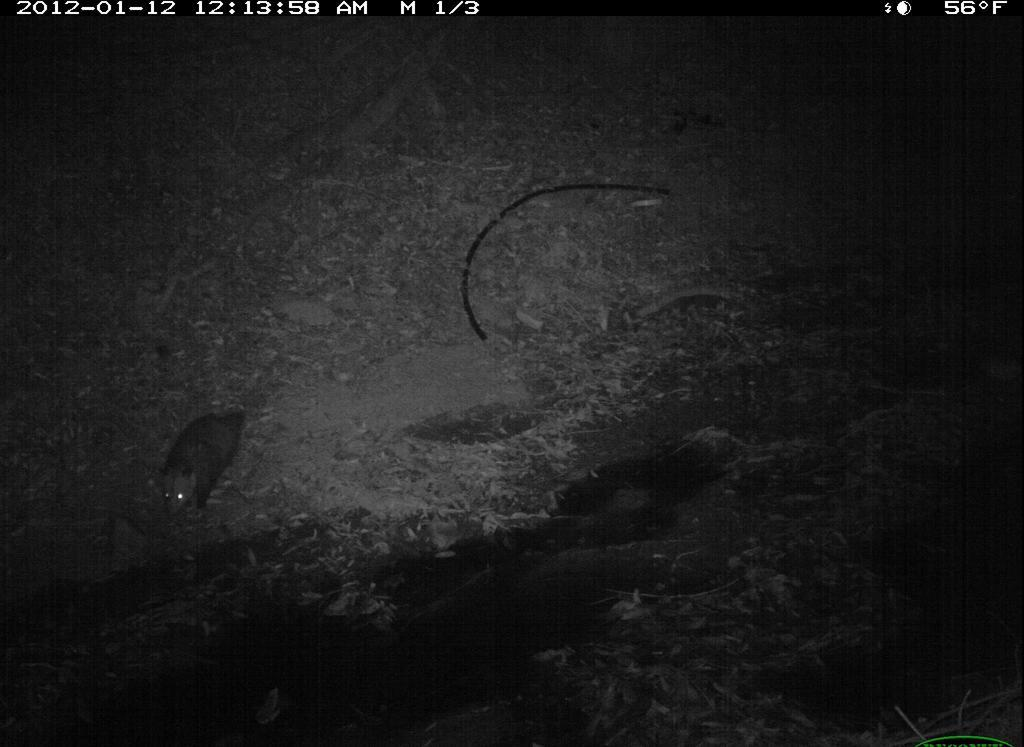opossum: (155, 402, 253, 519)
